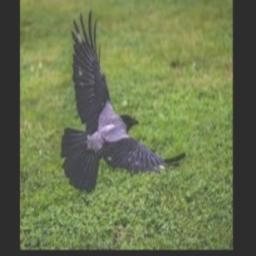Crow: (62, 8, 185, 194)
